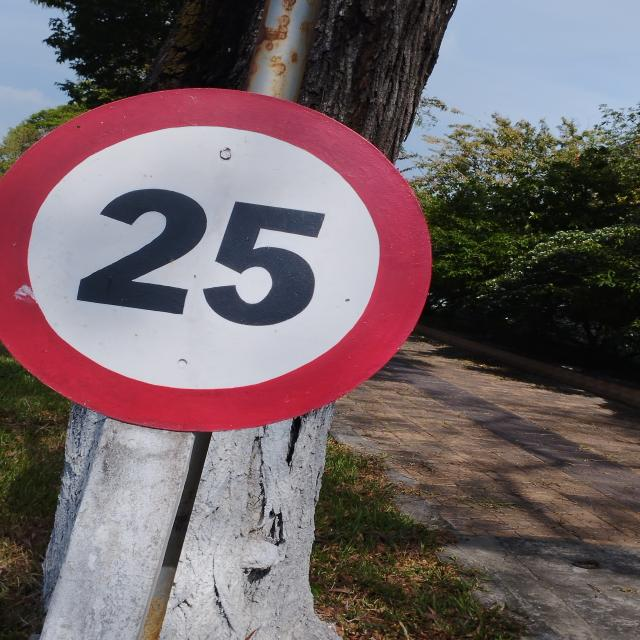Tre_Em: (0, 86, 433, 432)
